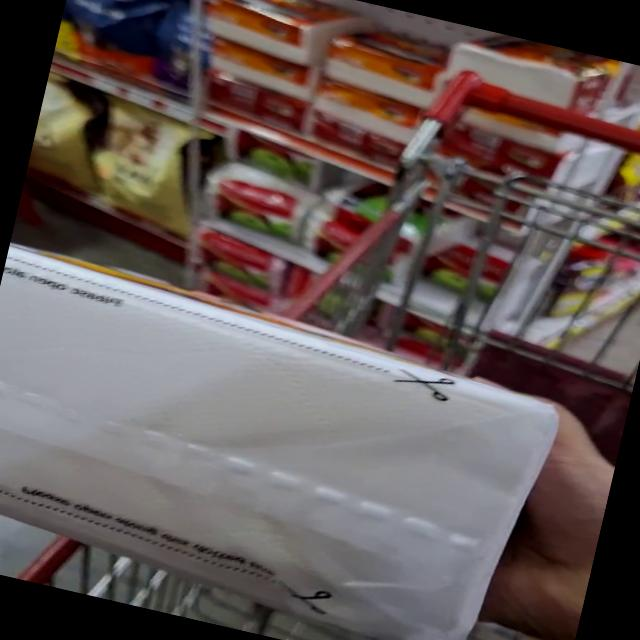Tisu: (0, 244, 571, 640)
